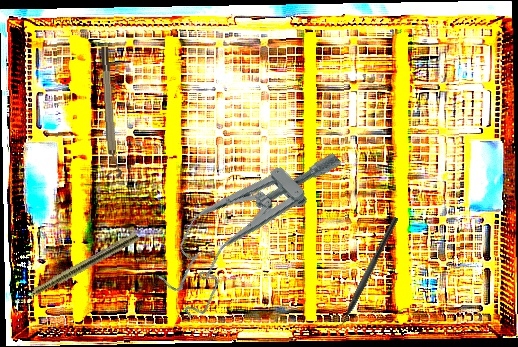Chopper: (329, 212, 399, 336)
Fixation Ring: (98, 46, 123, 179)
Handpiece: (10, 230, 140, 309)
Speculum: (141, 118, 354, 323)
